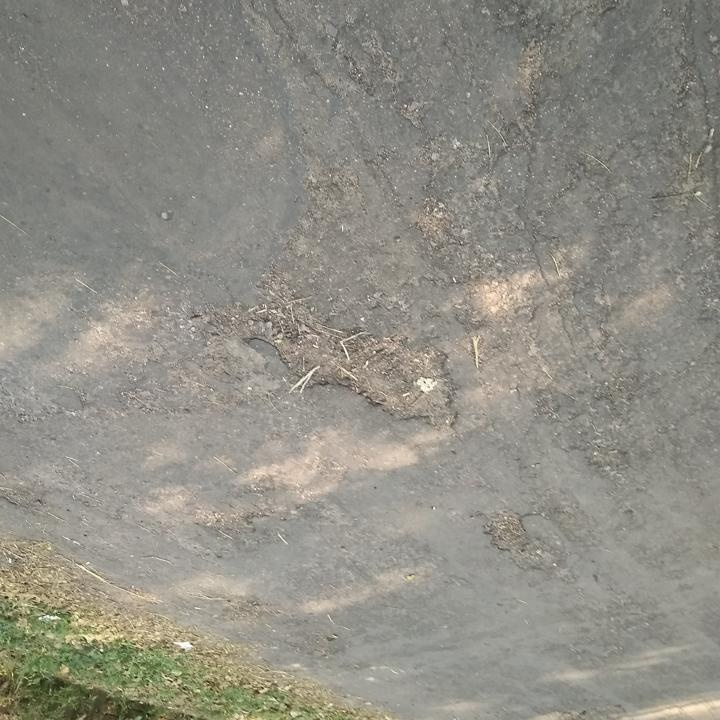pothole: (225, 303, 461, 436), (478, 508, 560, 573), (0, 486, 48, 512)
